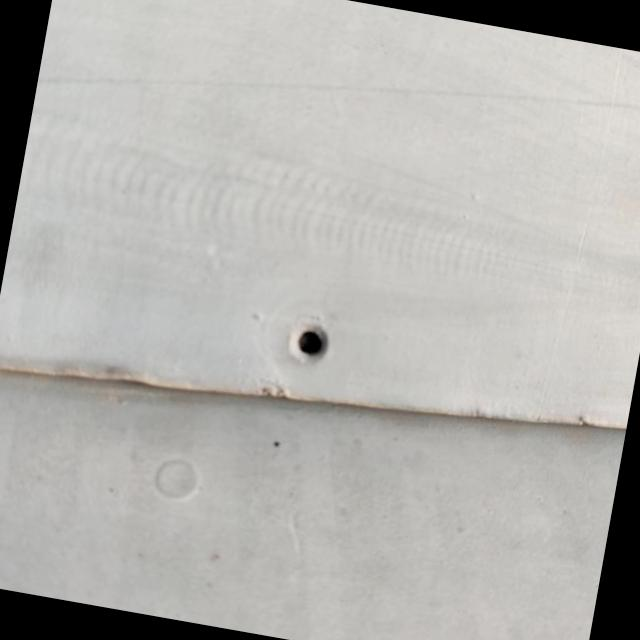Missing Fastener: (278, 306, 342, 378)
